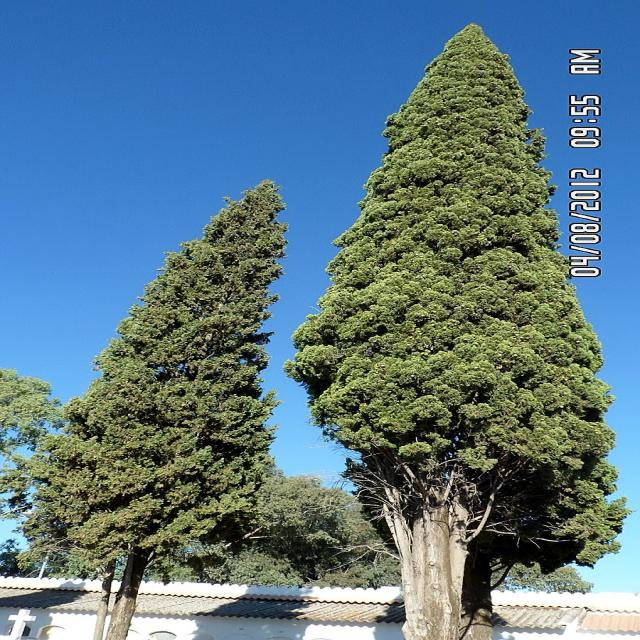cipres: (293, 14, 613, 636), (22, 179, 295, 640)
